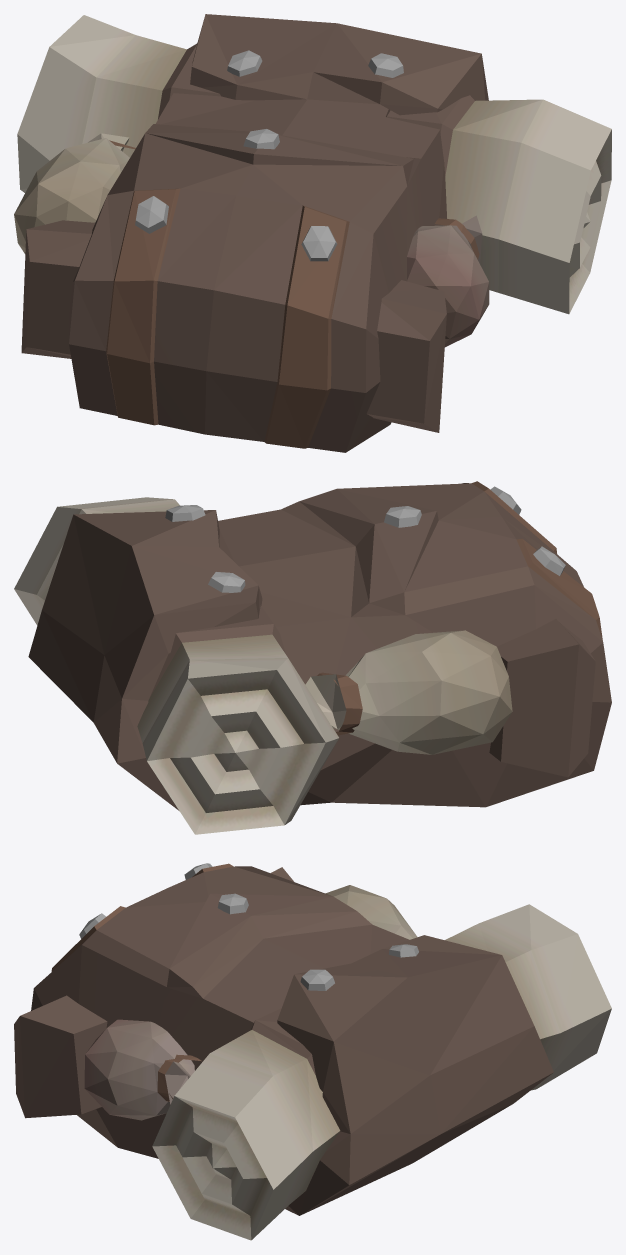
Rendered from backpack_monk.fbx.
3 views of the same model, one above another, from view 1: azimuth 30°, elevation 25°; view 2: azimuth 150°, elevation 25°; view 3: azimuth 270°, elevation 25° (orthographic). The views are drawn at different scales.
Parts seen in each view (by area): view 1: backpack_monk; view 2: backpack_monk; view 3: backpack_monk.
Boxes of the visible parts, bbox=[...] form: backpack_monk: bbox=[14, 14, 611, 452]; backpack_monk: bbox=[14, 481, 611, 834]; backpack_monk: bbox=[14, 863, 611, 1240].
Size of the model in its own units: 1.01 by 0.4248 by 1.03.
Materials: 1 (1 with a texture image).
